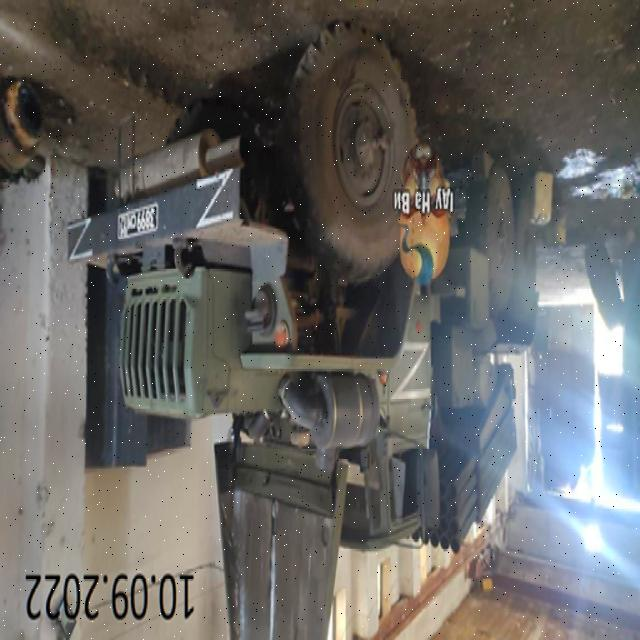MLRS: (66, 29, 540, 640)
